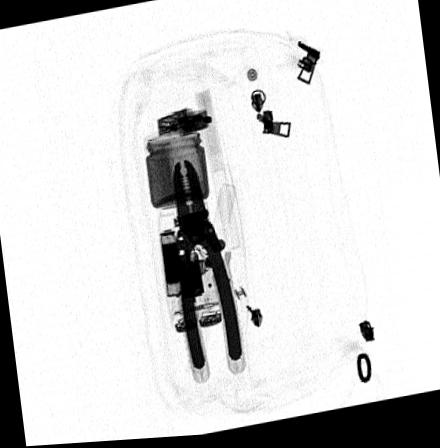Pliers: (170, 158, 243, 375)
